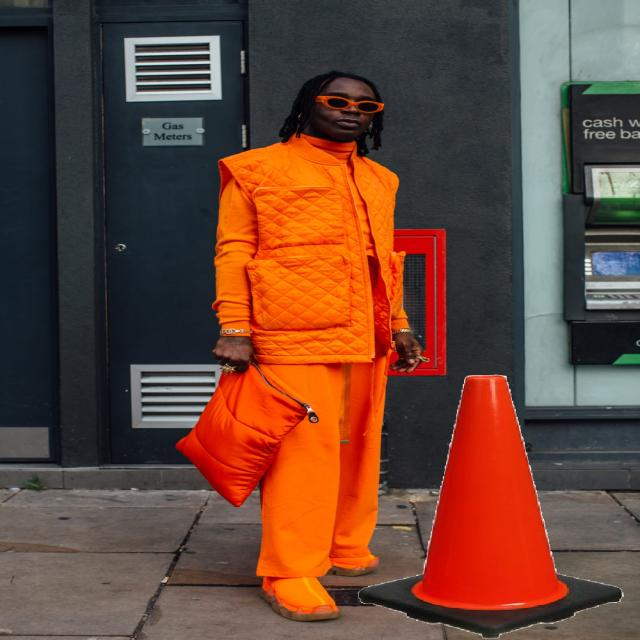traffic cone: (352, 368, 629, 640)
